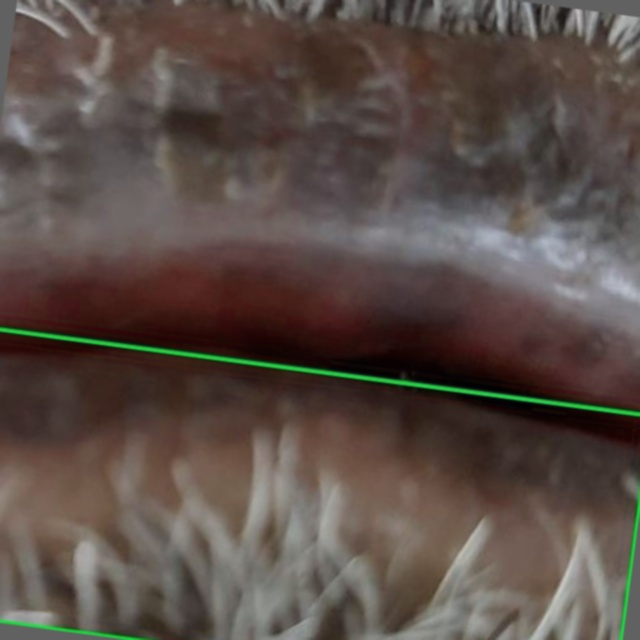Contact Dermatitis: (0, 329, 639, 639)
